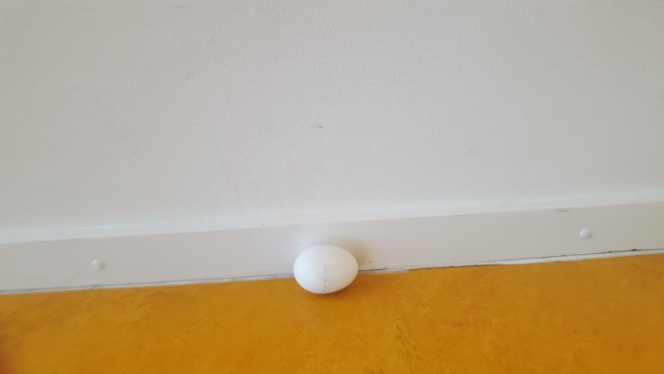egg: (294, 244, 359, 296)
